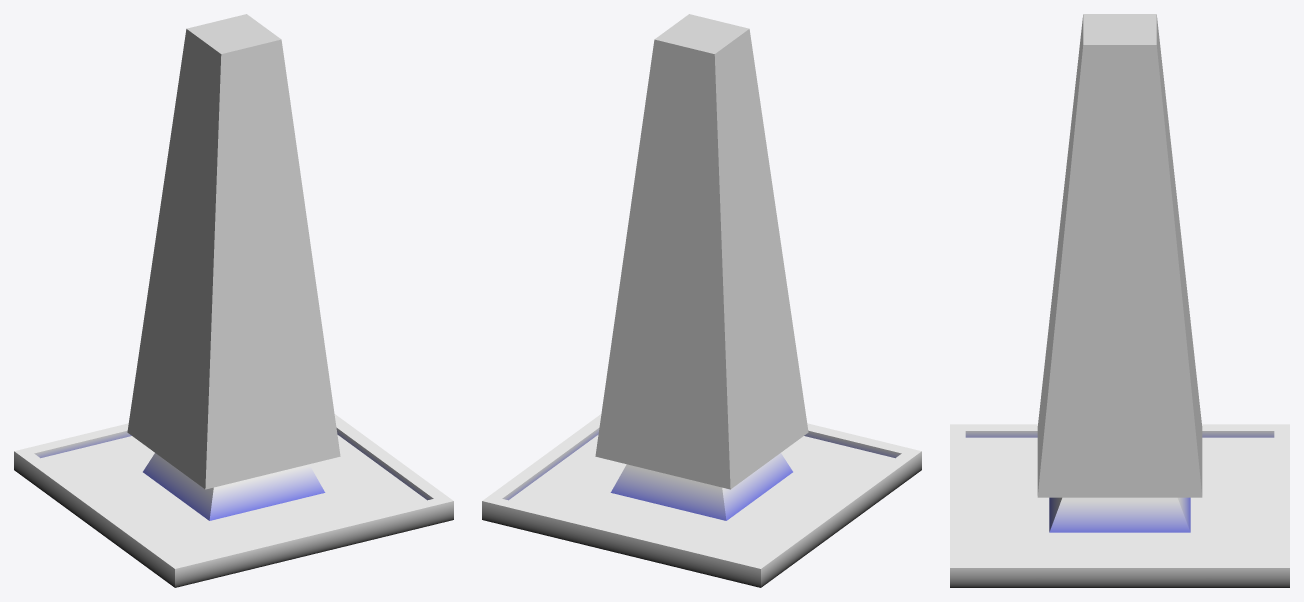
The model's file is demo.dae.
3 renders of one model, left to right at view 1: azimuth 30°, elevation 25°; view 2: azimuth 150°, elevation 25°; view 3: azimuth 270°, elevation 25°, orthographic. The views are drawn at different scales.
Parts seen in each view (by area): view 1: ray, shrine, water; view 2: ray, shrine, water; view 3: ray, water, shrine.
Part boxes in pixels (x1=…): ray: x1=127, y1=14, x2=340, y2=489; shrine: x1=14, y1=414, x2=453, y2=587; water: x1=41, y1=435, x2=426, y2=560; ray: x1=595, y1=14, x2=808, y2=489; shrine: x1=482, y1=414, x2=921, y2=587; water: x1=509, y1=435, x2=894, y2=560; ray: x1=1037, y1=14, x2=1202, y2=497; water: x1=965, y1=437, x2=1274, y2=561; shrine: x1=950, y1=424, x2=1289, y2=587.
Size of what is drawn, in the model's own units: 4.62 by 4.62 by 7.3.
